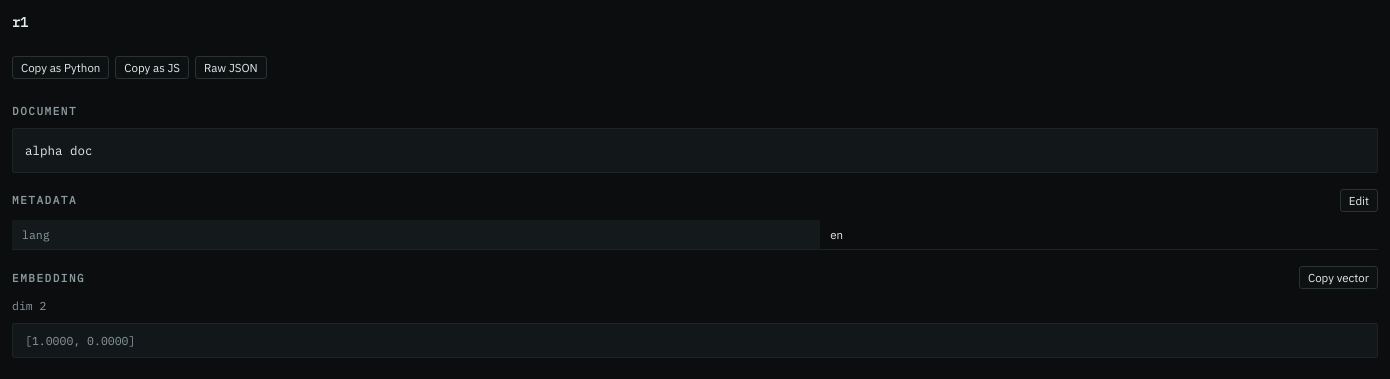
it: raw JSON replaces the pretty sections with the full fetched record
expect the text "r1" is shown: met, box [12, 13, 28, 31]
Click the button "Raw JSON" at (231, 68), box [195, 56, 267, 79]
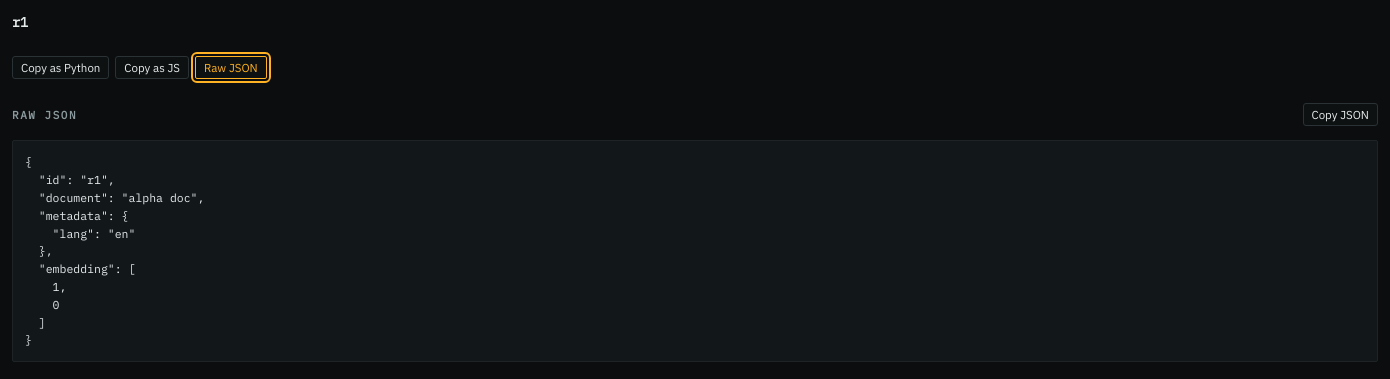
expect the text with test id "inspector-raw" shows "\"embedding\"": met, box [25, 154, 204, 347]
expect the text with test id "inspector-raw" shows "\"lang\": \"en\"": met, box [25, 154, 204, 347]
